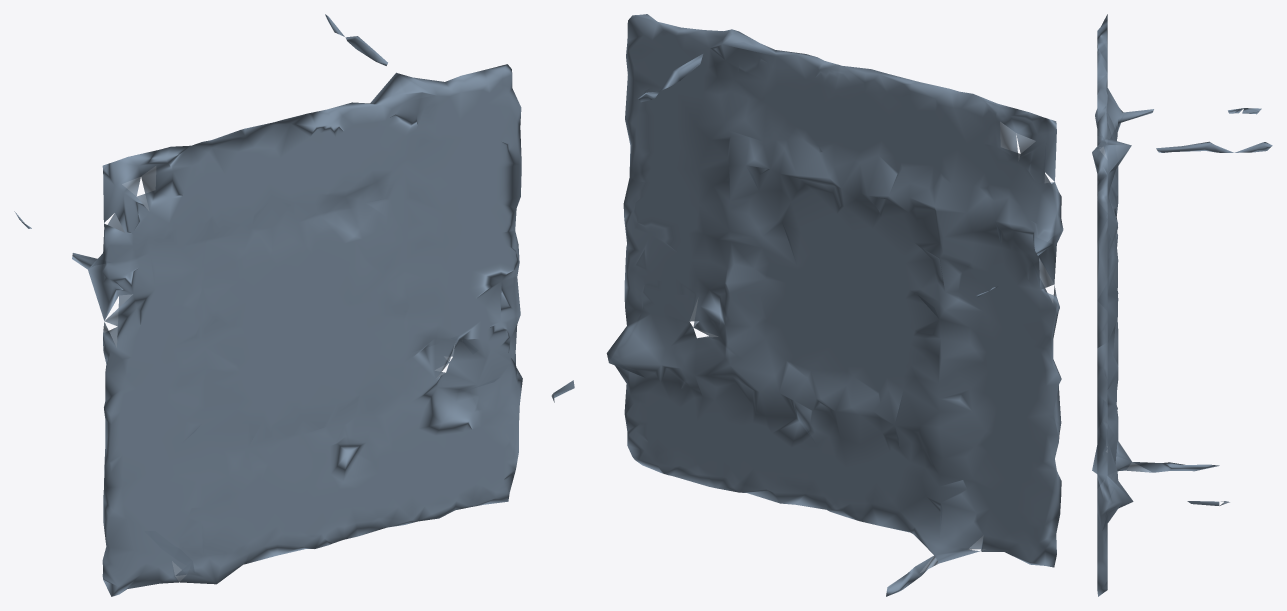
File: table_0376_original.obj
The picture shows the model from 3 angles, left to right: view 1: azimuth 30°, elevation 25°; view 2: azimuth 150°, elevation 25°; view 3: azimuth 270°, elevation 25°; orthographic projection. The views are drawn at different scales.
Size of the model in its own units: 1.49 by 1.49 by 0.5788.
